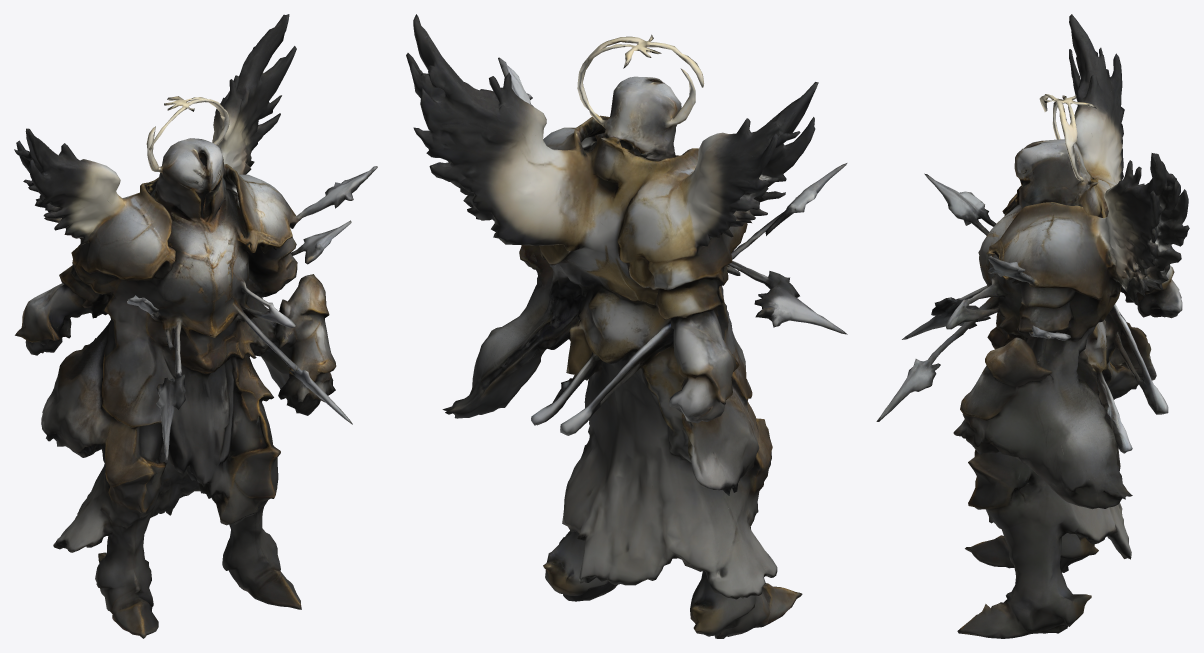
Rendered from hollow_saint.glb.
3 views of the same model, side by side, from view 1: azimuth 30°, elevation 25°; view 2: azimuth 150°, elevation 25°; view 3: azimuth 270°, elevation 25° (orthographic). The views are drawn at different scales.
Bounding box in the file's own units: 1.3 × 2 × 1.09.
Materials: 1 (1 with a texture image).
